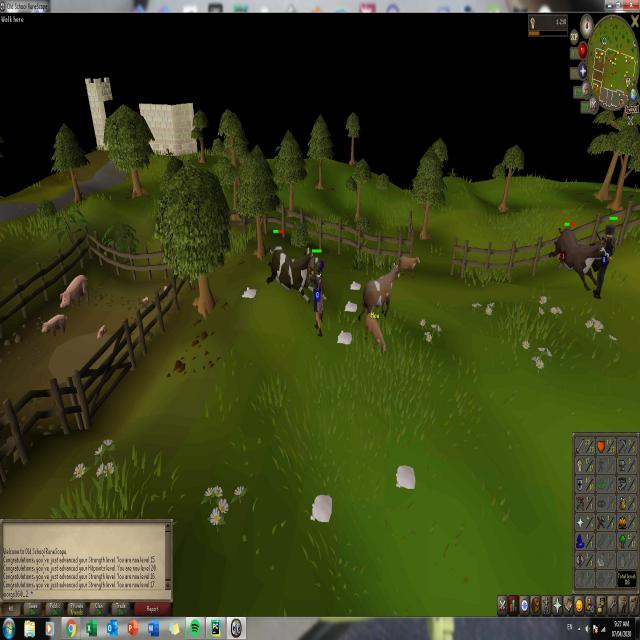cow: (549, 222, 598, 290), (266, 242, 314, 302), (365, 264, 399, 317), (365, 312, 388, 356), (398, 253, 420, 279)
player: (313, 253, 325, 337)
